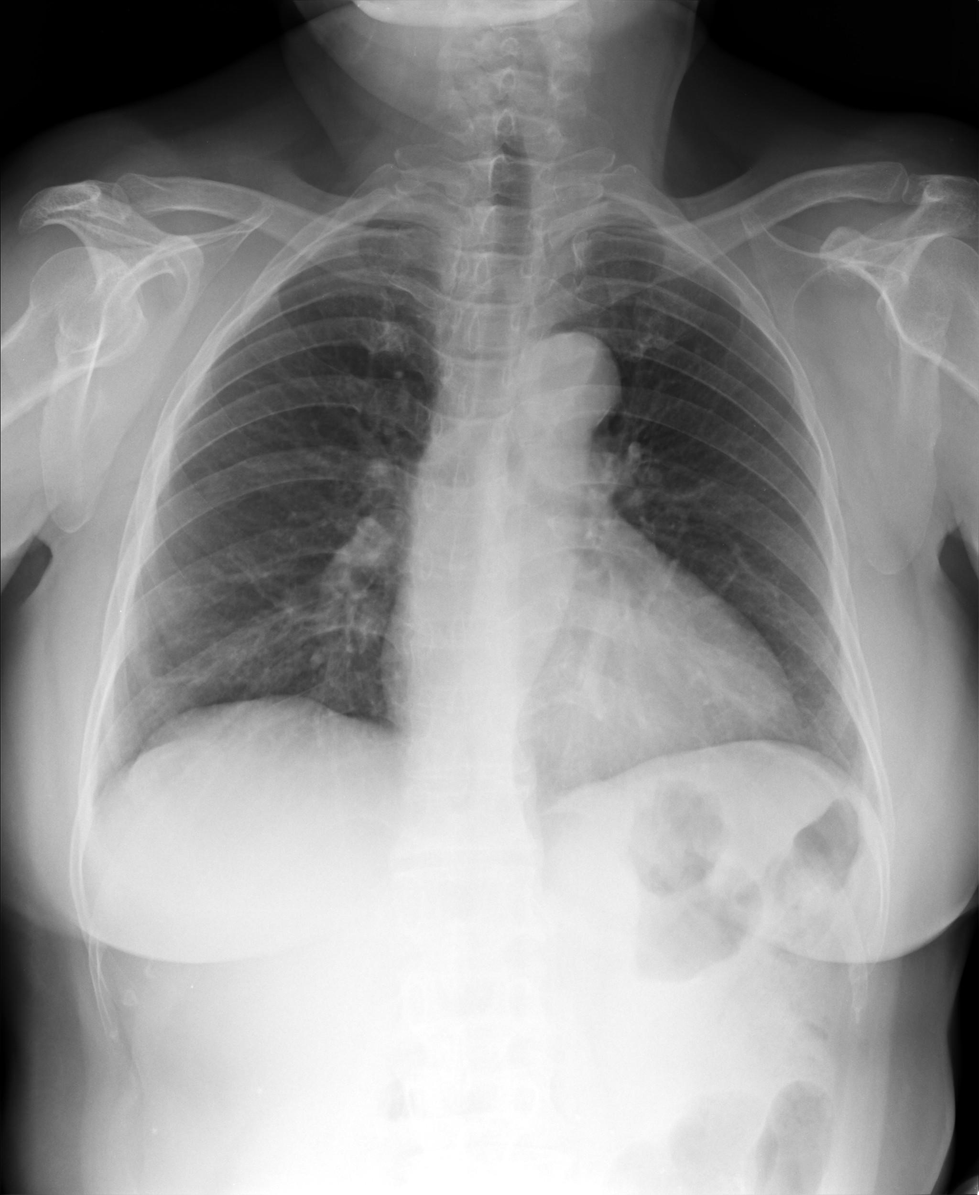Aortic enlargement: (510, 330, 623, 432)
Cardiomegaly: (374, 625, 807, 739)
